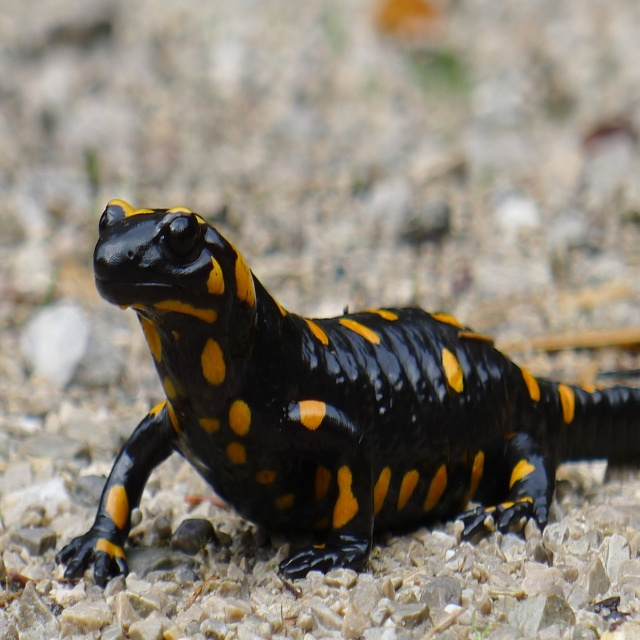Lizard: (51, 169, 640, 607)
